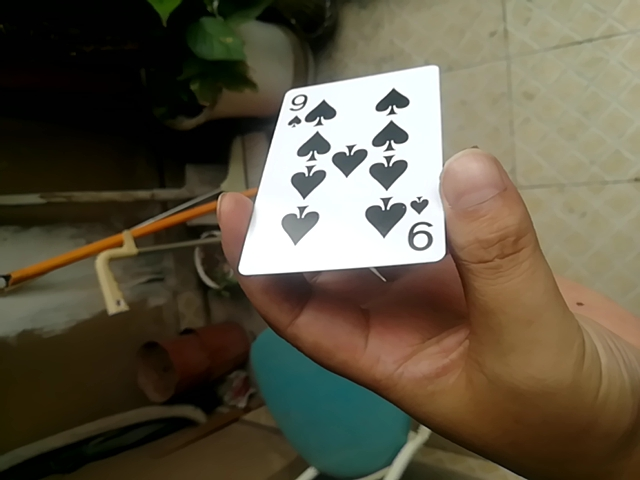ht 9: (229, 65, 448, 283)
